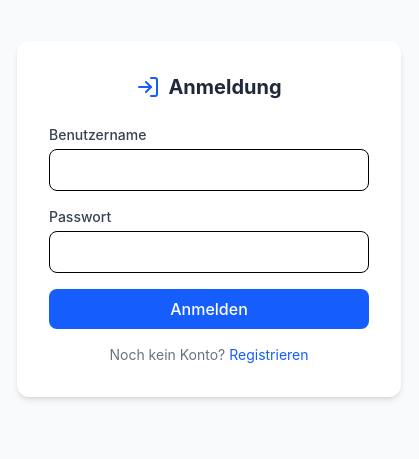
Test: Login page › switches to register mode and reveals the email field
Click the button "Registrieren" at {"x": 269, "y": 355}, box [229,345,309,365]
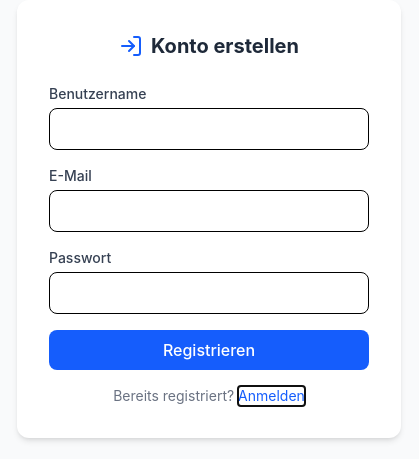
Expected: the heading "Konto erstellen" is shown, [151,32,299,60]
Expected: the field labelled "E-Mail" is shown, [49,190,369,232]
